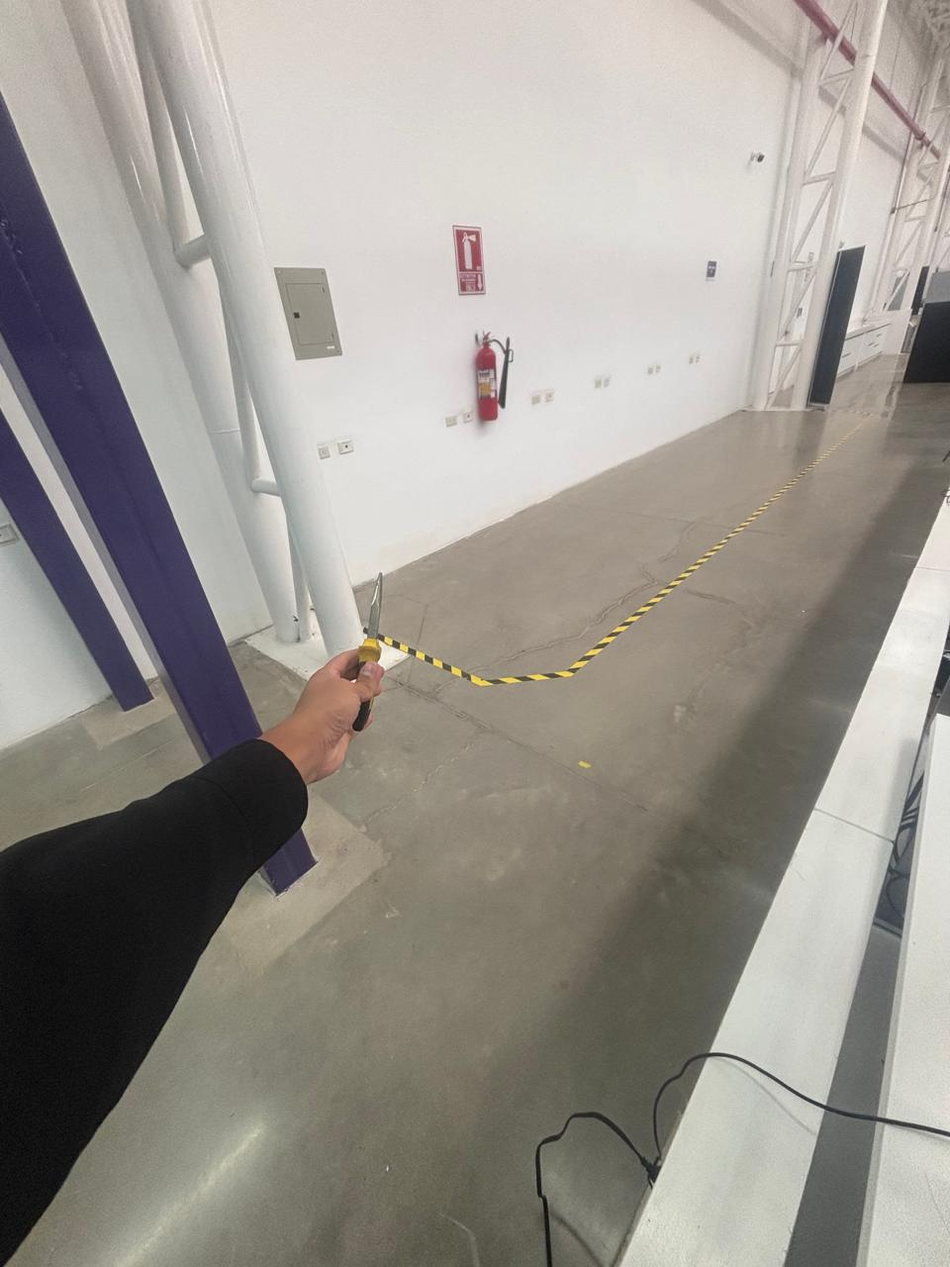plier: (338, 565, 398, 736)
